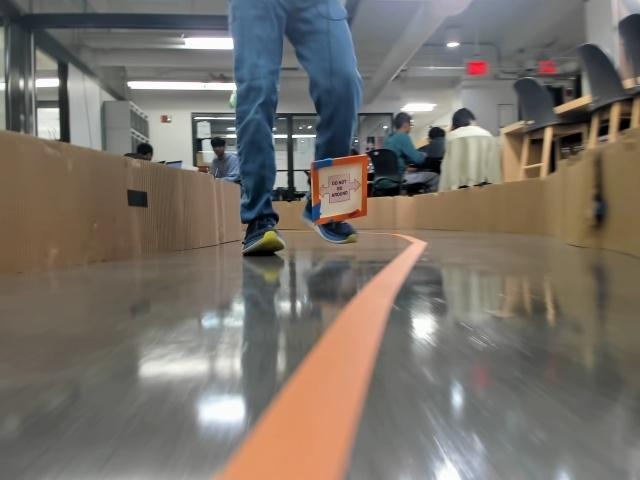Do Not Go Around: (317, 177, 358, 203)
